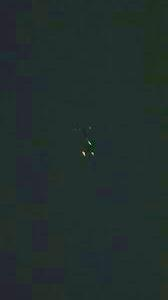Plane: (74, 133, 105, 166)
